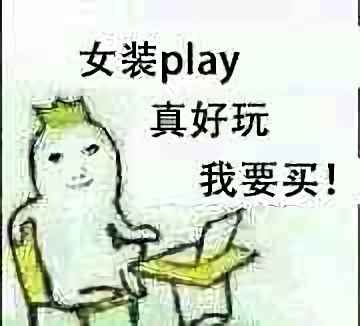dragon: (46, 140, 102, 195)
